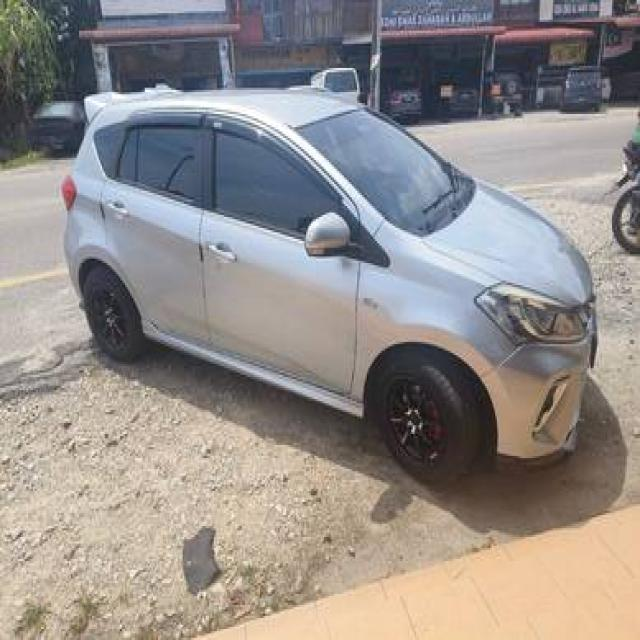PeroduaMyvi: (59, 79, 599, 489)
